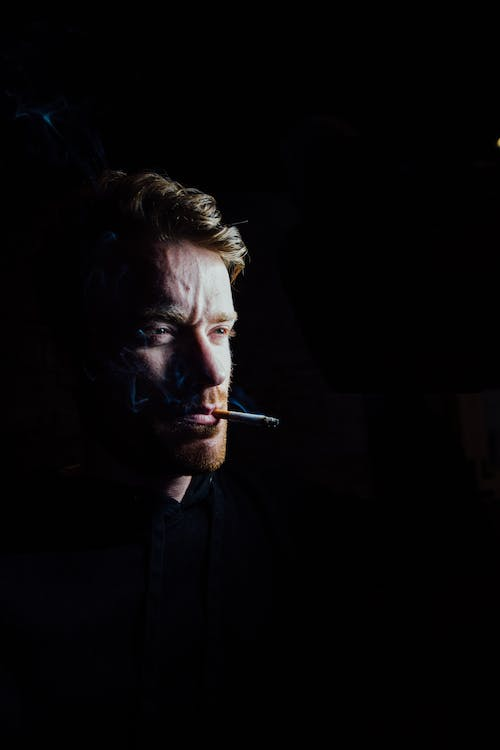cigarette: (210, 405, 282, 432)
